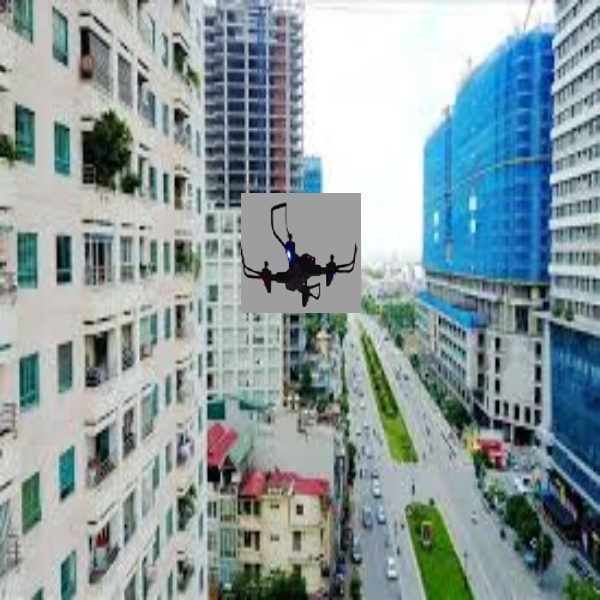drone: (238, 197, 361, 313)
